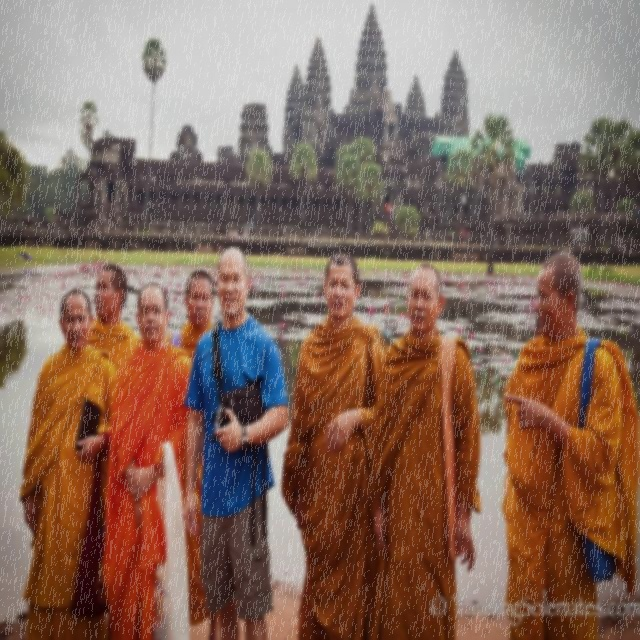pessoa: (499, 246, 639, 639), (364, 261, 484, 639), (280, 251, 395, 639), (182, 243, 292, 639), (18, 288, 116, 639), (103, 280, 194, 639), (164, 268, 216, 627), (84, 263, 142, 380), (226, 209, 258, 244), (98, 204, 127, 237), (458, 226, 474, 252), (533, 314, 545, 342), (15, 249, 35, 261), (26, 209, 34, 234), (425, 226, 433, 250), (616, 234, 624, 254), (386, 198, 396, 214)
